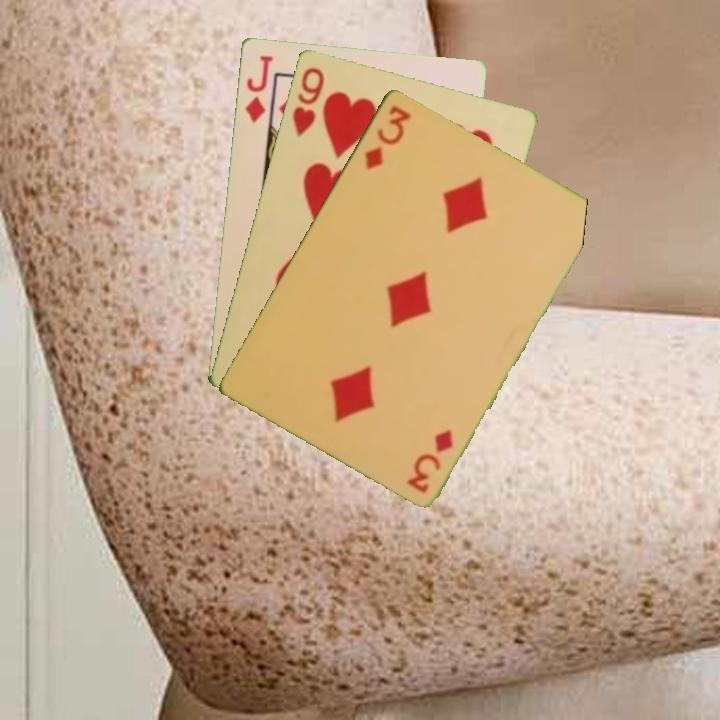3d: (403, 425, 457, 496), (361, 101, 414, 173)
9h: (288, 63, 327, 139)
Jd: (241, 51, 275, 126)
